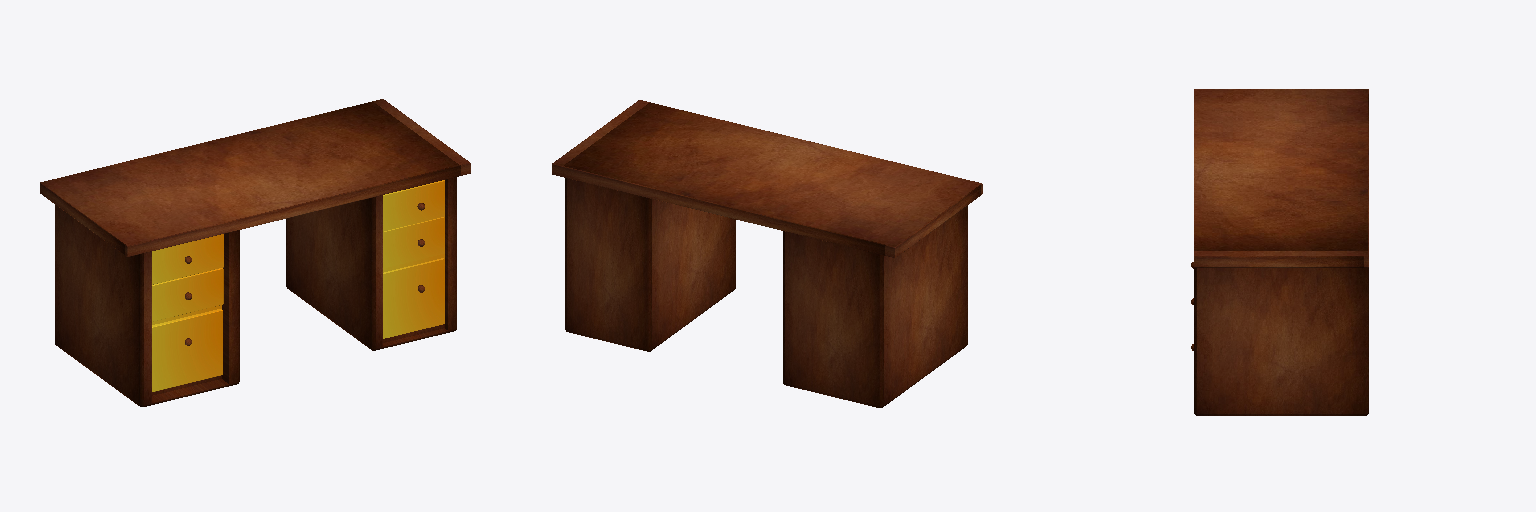
3 views of the same model, side by side, from view 1: azimuth 30°, elevation 25°; view 2: azimuth 150°, elevation 25°; view 3: azimuth 270°, elevation 25° (orthographic).
Visible parts, largest first — view 1: Desk_Planche, Desk_Base_, Desk_Base, Desk_Tiroir_3, Desk_Tiroir_3_1, Desk_Tiroir_2, Desk_Tiroir_1_, Desk_Tiroir_2_1, Desk_Tiroir_1__1; view 2: Desk_Planche, Desk_Base_, Desk_Base; view 3: Desk_Planche, Desk_Base.
Boxes of the visible parts, <box> form: Desk_Planche: <box>40,99,470,256</box>; Desk_Base_: <box>55,205,239,406</box>; Desk_Base: <box>286,177,456,350</box>; Desk_Tiroir_3: <box>152,309,222,391</box>; Desk_Tiroir_3_1: <box>383,258,444,338</box>; Desk_Tiroir_2: <box>152,268,223,321</box>; Desk_Tiroir_1_: <box>152,234,223,284</box>; Desk_Tiroir_2_1: <box>383,217,444,268</box>; Desk_Tiroir_1__1: <box>383,180,444,231</box>; Desk_Planche: <box>552,100,982,257</box>; Desk_Base_: <box>783,205,967,407</box>; Desk_Base: <box>565,178,735,351</box>; Desk_Planche: <box>1194,89,1368,267</box>; Desk_Base: <box>1194,268,1368,415</box>.
Bounding box in the file's own units: 454 × 210 × 204.
2 materials, 2 textured.